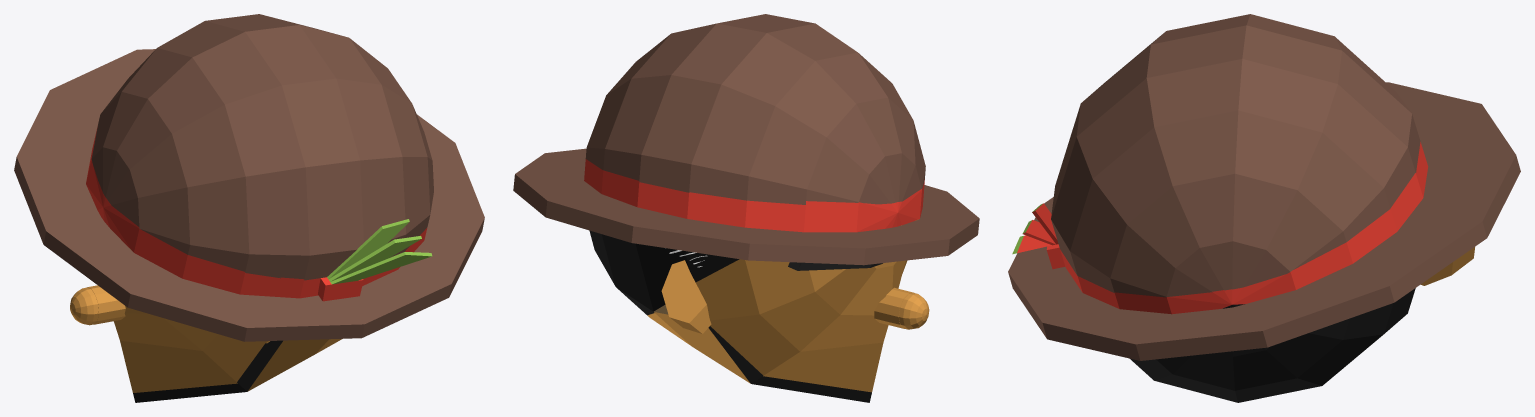
File: scene_WndUnCiymz.glb
3 renders of one model, left to right at view 1: azimuth 30°, elevation 25°; view 2: azimuth 150°, elevation 25°; view 3: azimuth 270°, elevation 25°, orthographic. The views are drawn at different scales.
Parts seen in each view (by area): view 1: group234813589; view 2: group234813589; view 3: group234813589.
Boxes of the visible parts, bbox=[...] form: group234813589: bbox=[14, 14, 484, 402]; group234813589: bbox=[513, 14, 979, 402]; group234813589: bbox=[1008, 14, 1520, 402].
Size of the model in its own units: 3.05 by 2.46 by 2.98.
